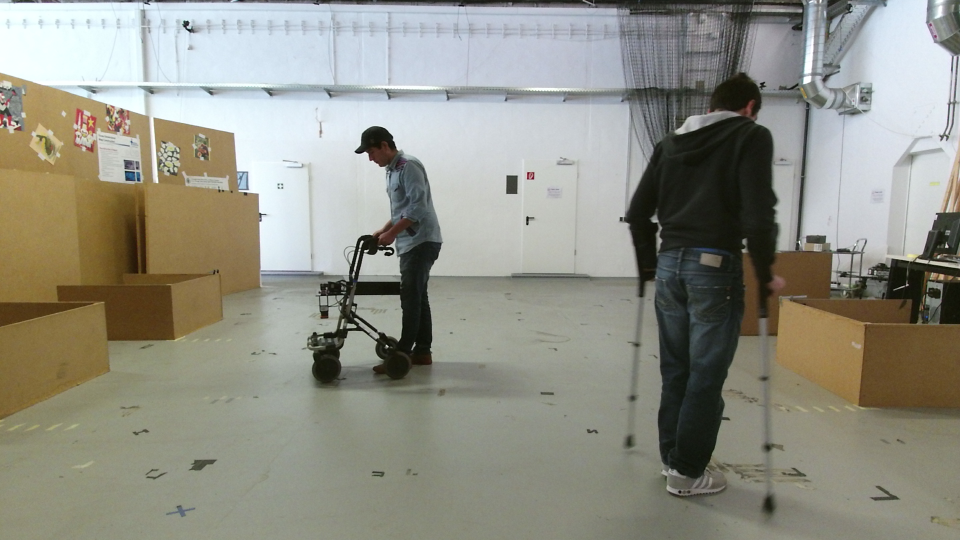crutches: (615, 72, 795, 517)
